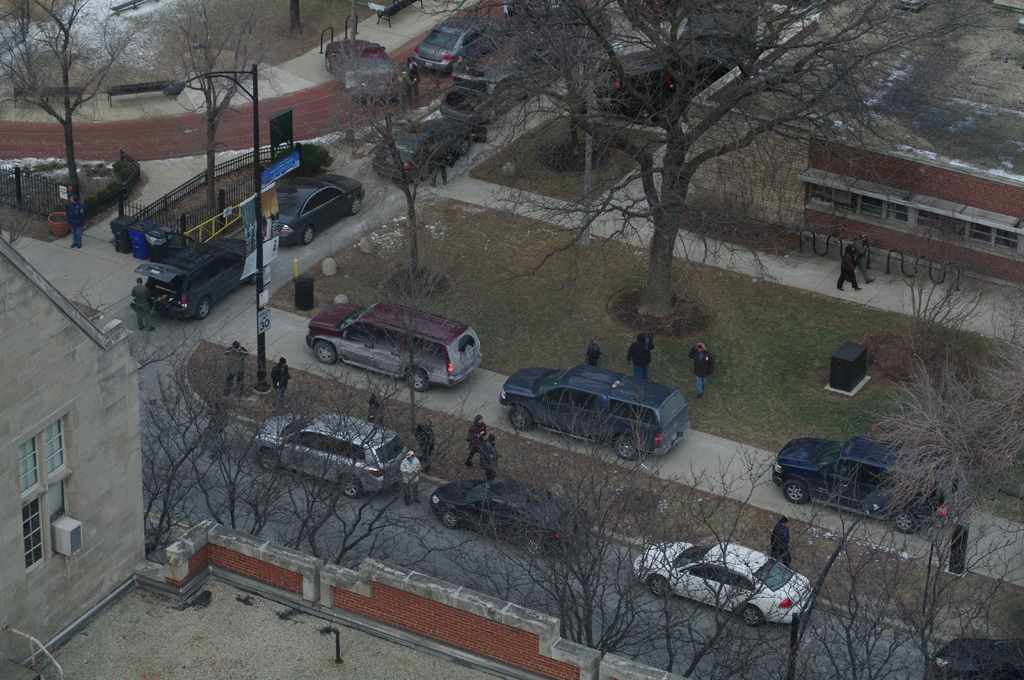Car: (492, 353, 709, 469), (771, 430, 952, 530), (630, 537, 815, 623), (315, 300, 485, 388), (252, 405, 412, 495), (426, 477, 593, 555), (128, 229, 263, 319), (368, 111, 476, 186), (592, 35, 689, 111), (275, 165, 364, 245), (410, 8, 503, 72), (327, 31, 398, 109), (695, 0, 760, 83), (933, 628, 1023, 679)
